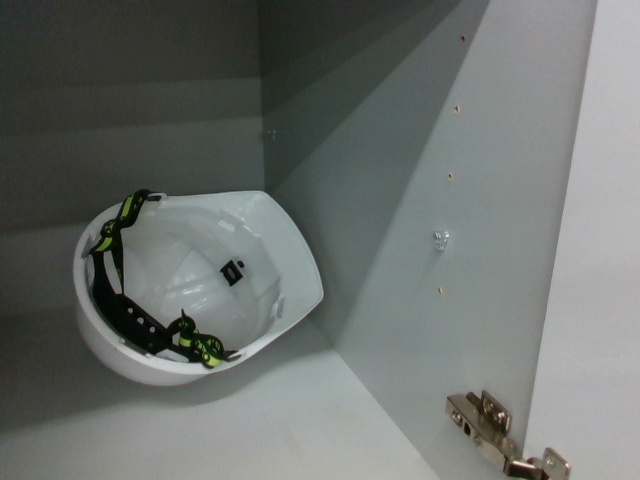helmet: (66, 176, 331, 394)
